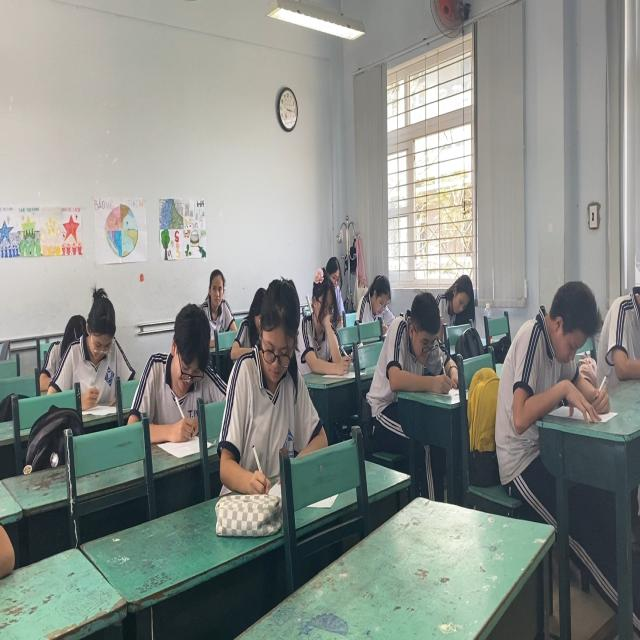not_cheating: (497, 268, 606, 420), (226, 275, 310, 464), (50, 282, 142, 392), (147, 305, 212, 457), (364, 296, 454, 392), (295, 261, 357, 371), (350, 257, 392, 323), (200, 261, 235, 337), (441, 274, 478, 326)
